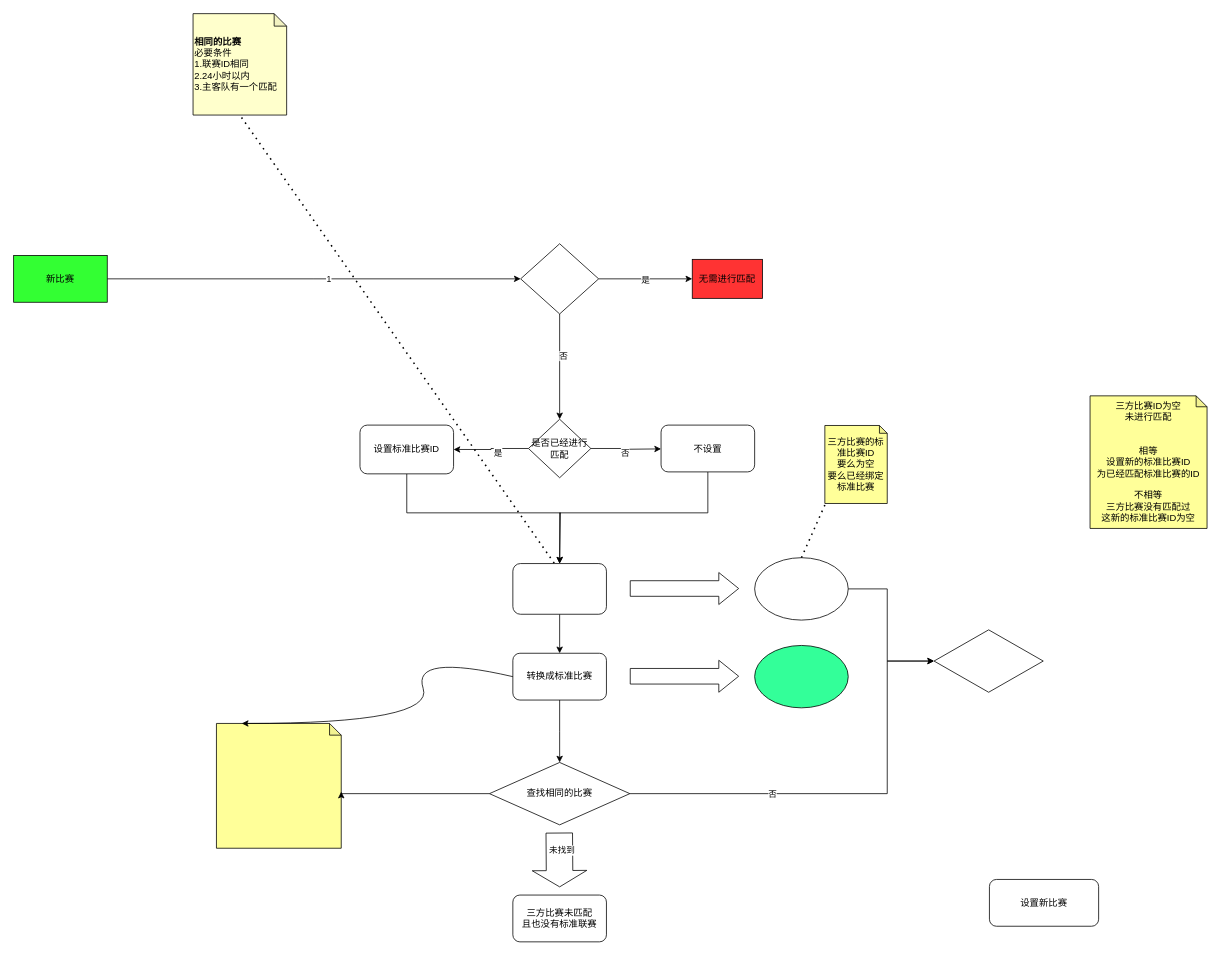
Some shapes in this 1221 by 955 pixel diagram are drawn without their labels. Each missing label, with the box of its shape:
三方比赛: (754, 557, 848, 620)
三方比赛ID为空 未进行匹配: (933, 629, 1043, 692)
必要条件 1.主客队匹配 2.没有被屏蔽 3.12个小时内的比赛 =》： 先找其中开赛时间相同的，没有则取第一个: (216, 723, 341, 848)
新的标准比赛: (754, 645, 848, 708)
比赛取消或者结束: (520, 243, 599, 314)
生成三方比赛模板 并将相同的比赛保存 保存ID，但不会设置: (512, 563, 606, 614)
